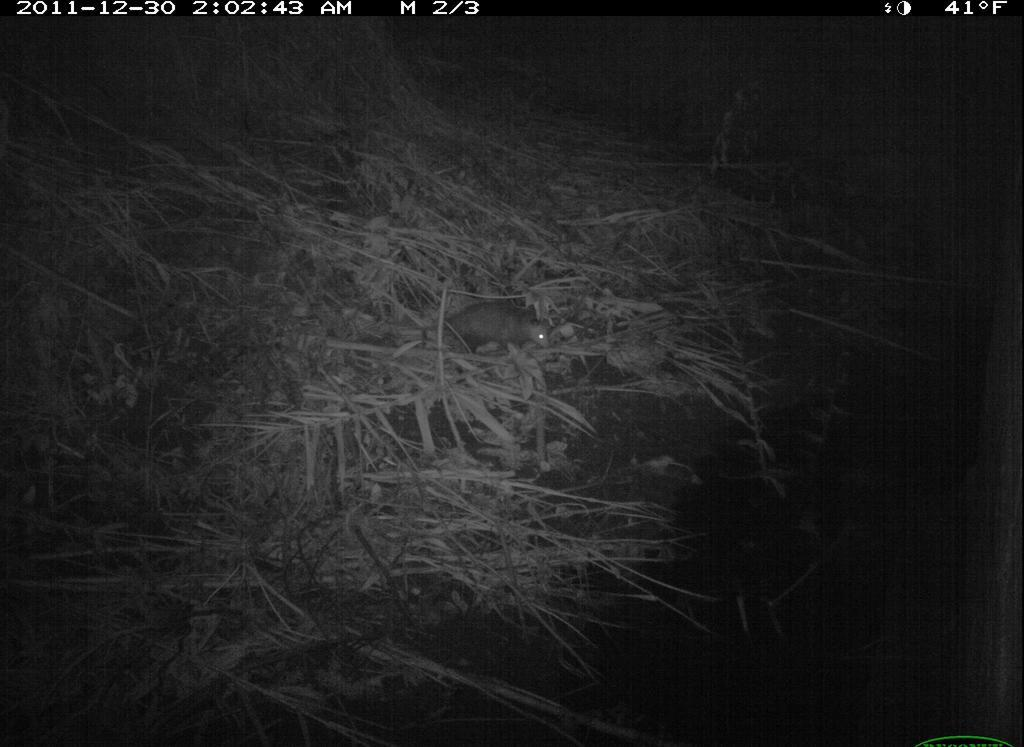opossum: (424, 287, 562, 372)
